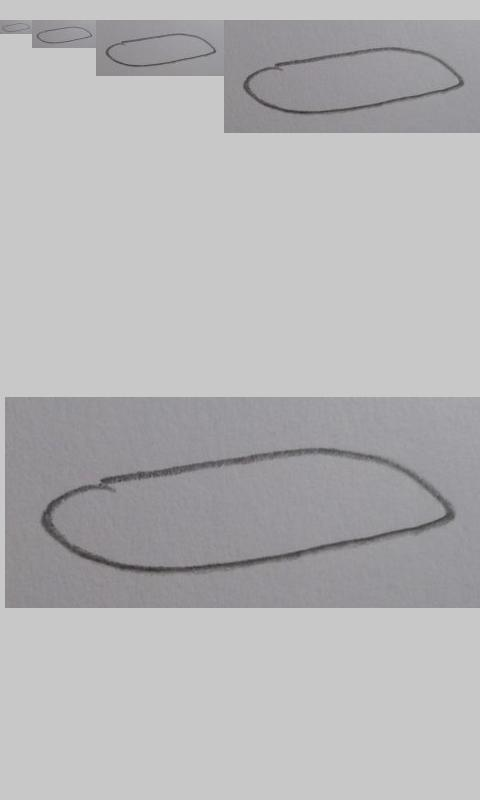chip: (40, 448, 457, 574), (242, 47, 466, 115), (105, 33, 217, 68), (36, 26, 93, 44), (2, 22, 31, 33)
